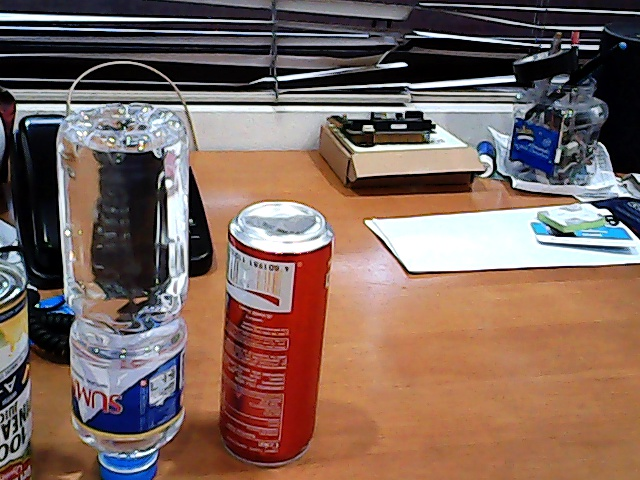Cola: (210, 195, 359, 480)
Pine Juice: (1, 253, 41, 480)
Summit Water: (46, 83, 202, 480)
